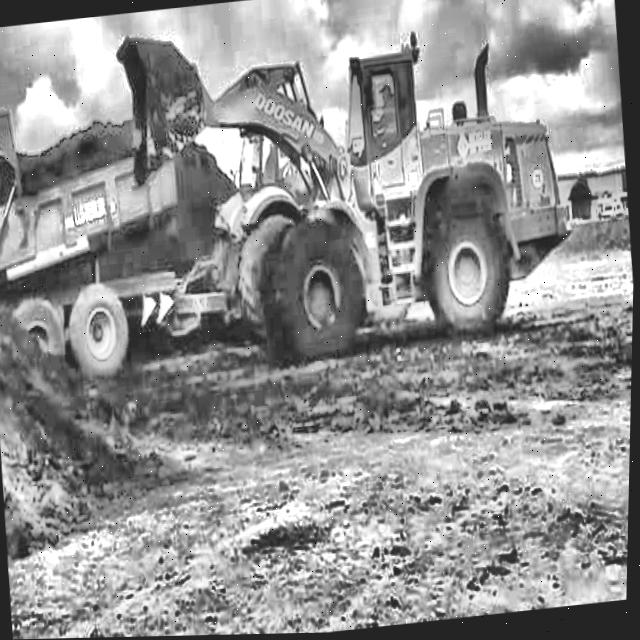buldozerpayloadergrader: (107, 0, 587, 371)
dump_truck: (0, 71, 344, 387)
